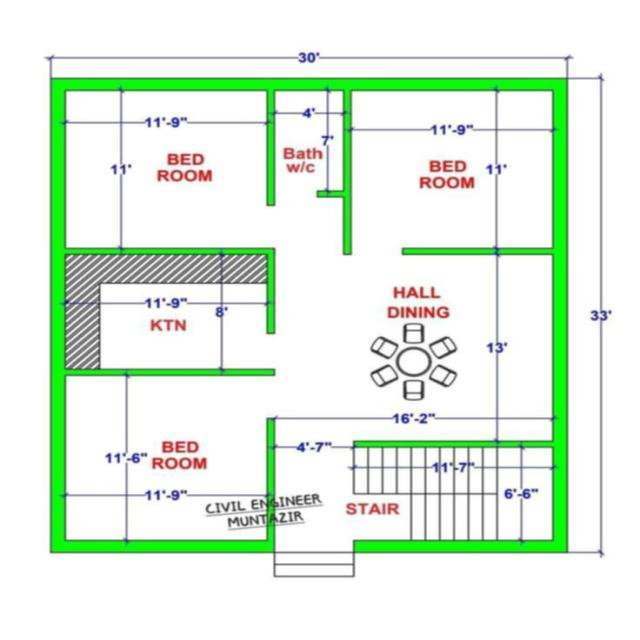column: (540, 532, 574, 556), (45, 74, 77, 98), (47, 534, 75, 560), (549, 72, 572, 98)
